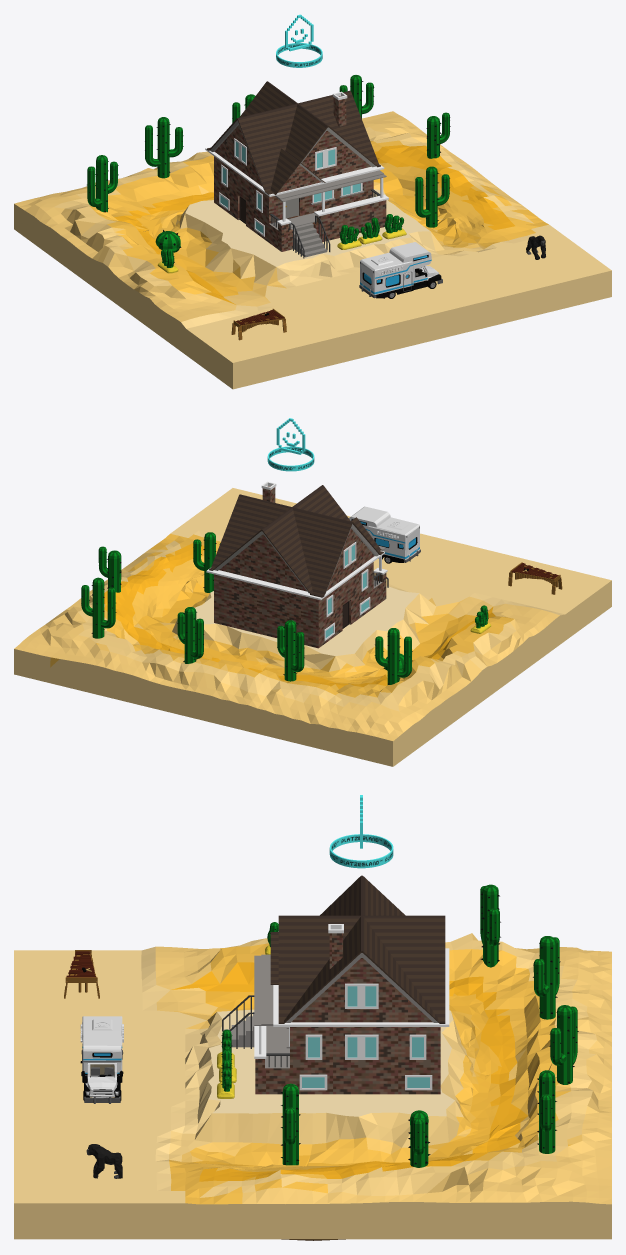
3 views of the same model, one above another, from view 1: azimuth 30°, elevation 25°; view 2: azimuth 150°, elevation 25°; view 3: azimuth 270°, elevation 25° (orthographic). The views are drawn at different scales.
Visible parts, largest first — view 1: Cube.001, Cube.117, VEHICLES_CAMPER, Cylinder.044, Cylinder.037, Cylinder.045, TYPE_PREMIUM, Cylinder.038, OBJRANDOM_MARIMBA, Cylinder.042; view 2: Cube.001, Cube.117, VEHICLES_CAMPER, Cylinder.042, Cylinder.045, Cylinder.044, Cylinder.043, TYPE_PREMIUM, Cylinder.037, Cylinder.038, OBJRANDOM_MARIMBA; view 3: Cube.001, Cube.117, VEHICLES_CAMPER, Cylinder.044, Cylinder.043, Cylinder.045, Cylinder.042, Cylinder.037, TYPE_PREMIUM, Cylinder.038, OBJRANDOM_MARIMBA, ANIMAL_GORILA.
Part boxes in pixels (x1,y1,x2,y2): Cube.001: (14,111,611,389); Cube.117: (205,81,388,258); VEHICLES_CAMPER: (359,242,442,298); Cylinder.044: (145,117,183,178); Cylinder.037: (415,166,449,227); Cylinder.045: (87,155,118,212); TYPE_PREMIUM: (276,14,322,67); Cylinder.038: (426,112,450,158); OBJRANDOM_MARIMBA: (231,308,286,340); Cylinder.042: (339,75,374,118); Cube.001: (14,488,611,766); Cube.117: (206,481,388,648); VEHICLES_CAMPER: (349,506,420,563); Cylinder.042: (81,577,116,638); Cylinder.045: (374,628,412,684); Cylinder.044: (277,620,304,681); Cylinder.043: (177,607,203,663); TYPE_PREMIUM: (267,418,314,471); Cylinder.037: (193,532,220,592); Cylinder.038: (98,546,121,592); OBJRANDOM_MARIMBA: (508,562,562,594); Cube.001: (14,933,611,1239); Cube.117: (222,875,449,1094); VEHICLES_CAMPER: (80,1016,123,1103); Cylinder.044: (533,936,560,1019); Cylinder.043: (549,1005,578,1084); Cylinder.045: (480,884,500,967); Cylinder.042: (537,1070,556,1153); Cylinder.037: (281,1083,300,1165); TYPE_PREMIUM: (329,795,393,868); Cylinder.038: (408,1110,430,1167); OBJRANDOM_MARIMBA: (64,950,99,998); ANIMAL_GORILA: (86,1144,122,1178).
Bounding box in the file's own units: 4002 × 2504 × 4001.
Materials: 37 (4 with a texture image).
